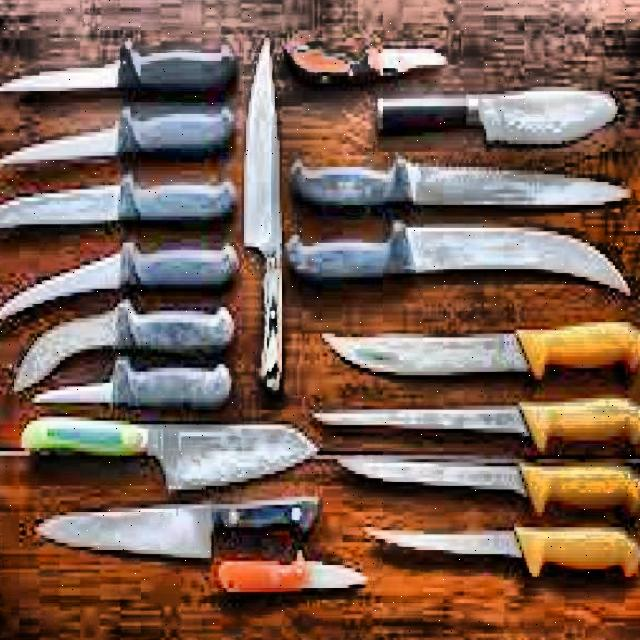knife: (16, 412, 330, 500), (286, 228, 637, 301), (286, 154, 638, 221), (321, 312, 640, 385), (334, 444, 640, 520), (11, 297, 242, 397), (0, 234, 252, 324), (31, 493, 325, 558), (241, 34, 292, 402), (366, 523, 640, 587), (369, 87, 621, 156), (311, 398, 640, 450), (0, 105, 243, 167), (0, 50, 239, 108), (0, 179, 242, 233), (31, 366, 238, 413), (285, 25, 447, 85), (206, 559, 372, 591)
